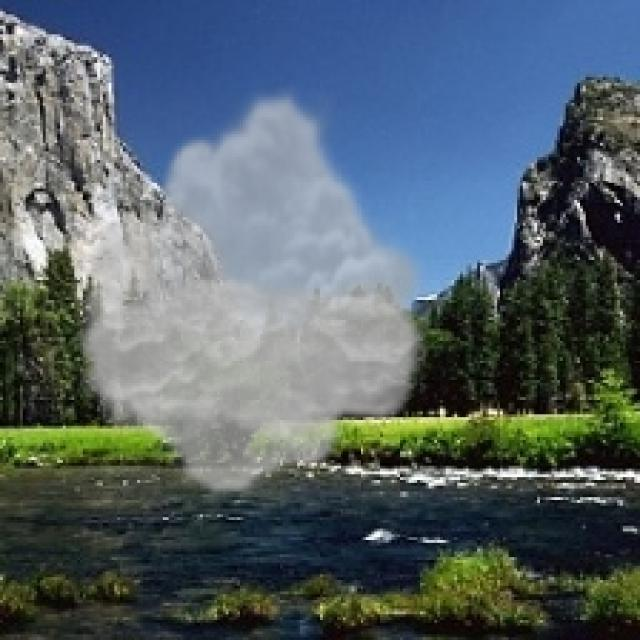smoke: (69, 86, 434, 500)
